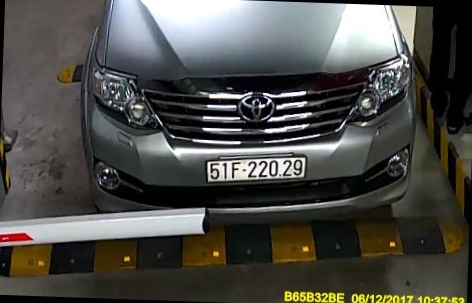plate: (196, 142, 309, 184)
